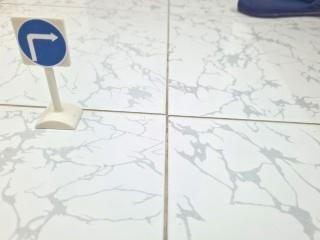right: (2, 8, 86, 76)
